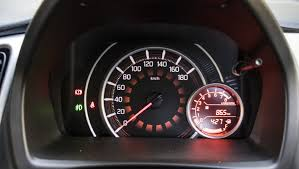Digital_Meter: (205, 106, 238, 129)
